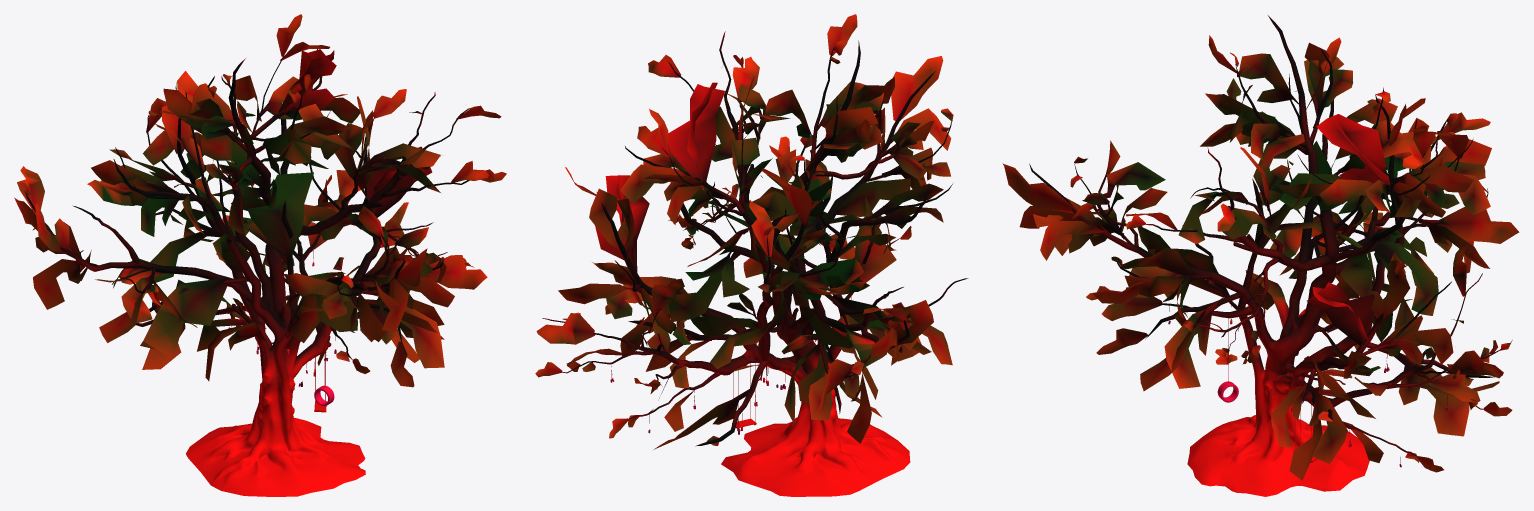
Rendered from TTFEJuniperProp.fbx.
The picture shows the model from 3 angles, left to right: view 1: azimuth 30°, elevation 25°; view 2: azimuth 150°, elevation 25°; view 3: azimuth 270°, elevation 25°; orthographic projection. The views are drawn at different scales.
Visible parts, largest first — view 1: TTFEJuniperProp; view 2: TTFEJuniperProp; view 3: TTFEJuniperProp.
Boxes of the visible parts, left/top/right/bottom form: TTFEJuniperProp: left=14, top=14, right=506, bottom=496; TTFEJuniperProp: left=535, top=14, right=968, bottom=496; TTFEJuniperProp: left=1002, top=15, right=1519, bottom=496.
Bounding box in the file's own units: 15.42 × 16.47 × 18.09.
